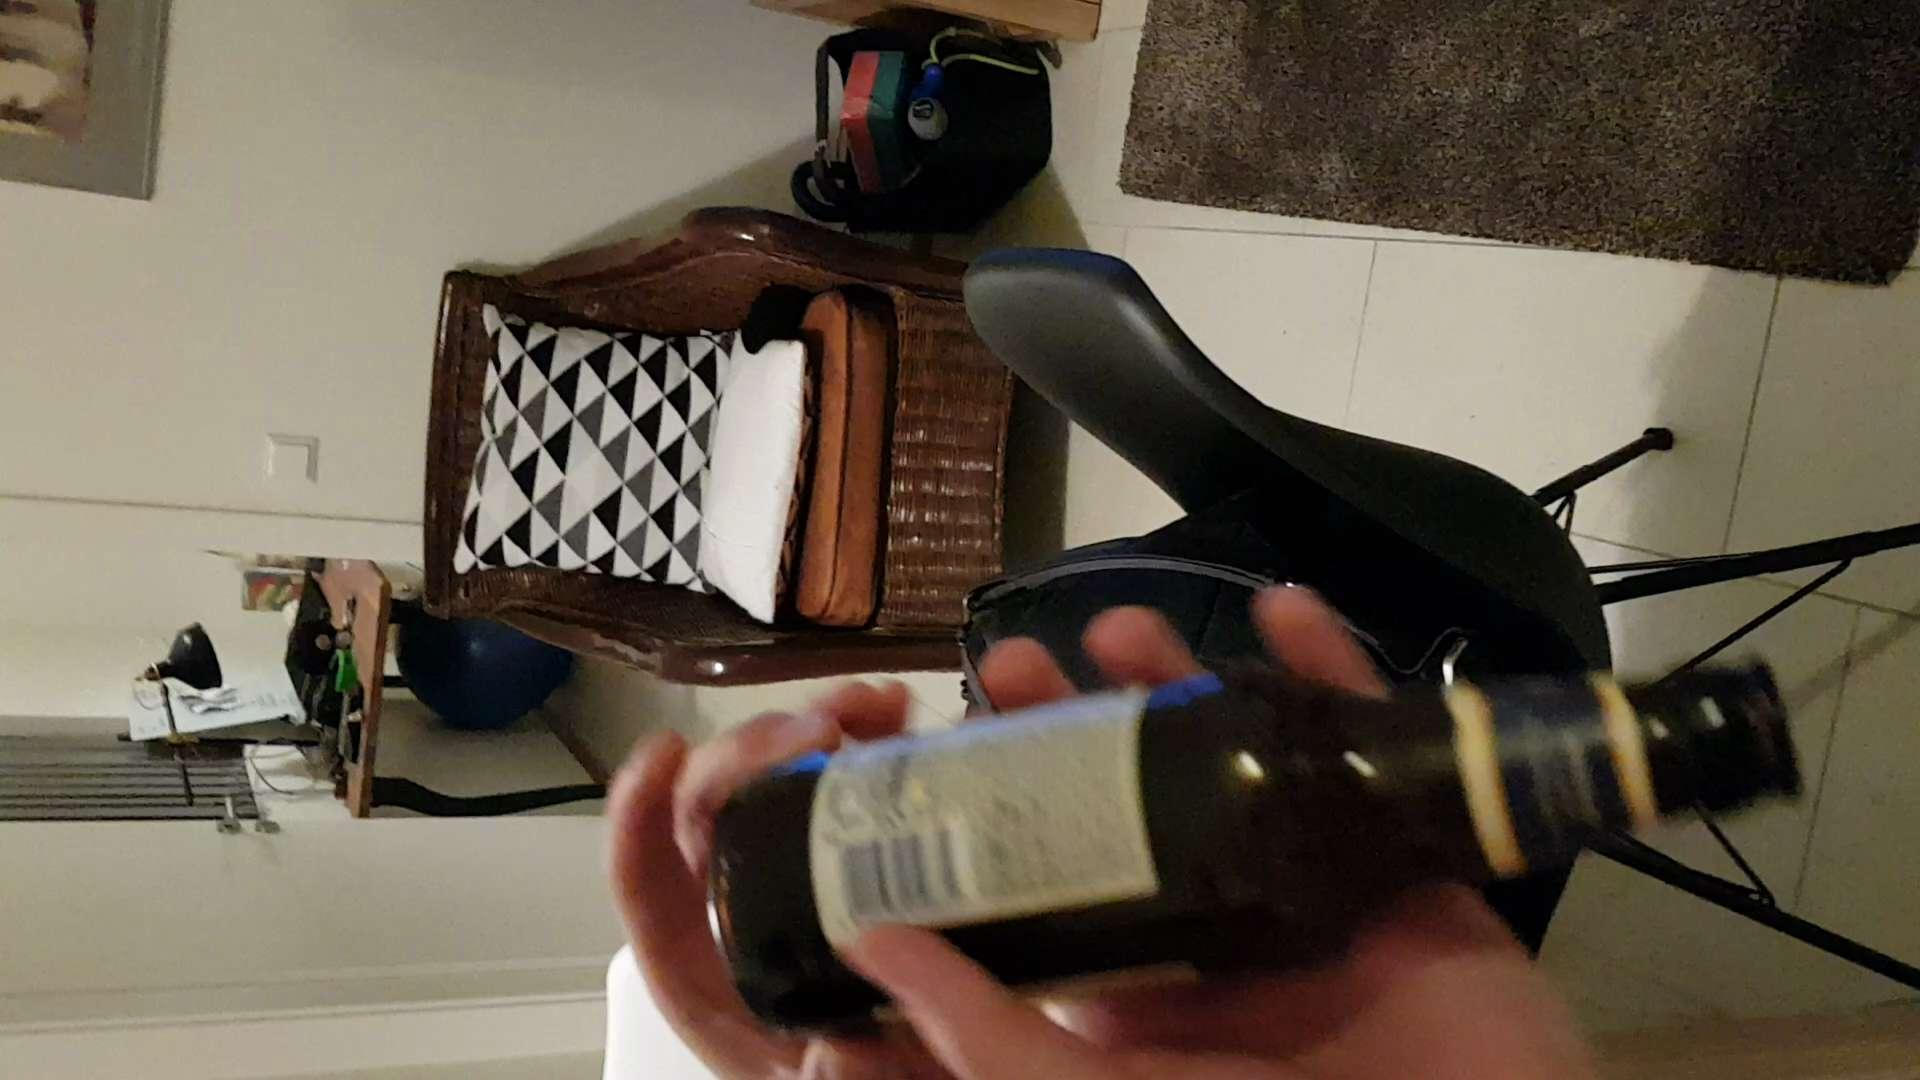Bottle: (709, 633, 1807, 1021)
